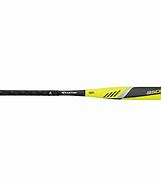bat: (1, 85, 161, 102)
